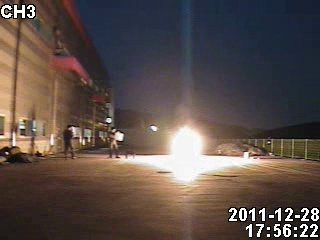fire: (165, 126, 200, 164)
